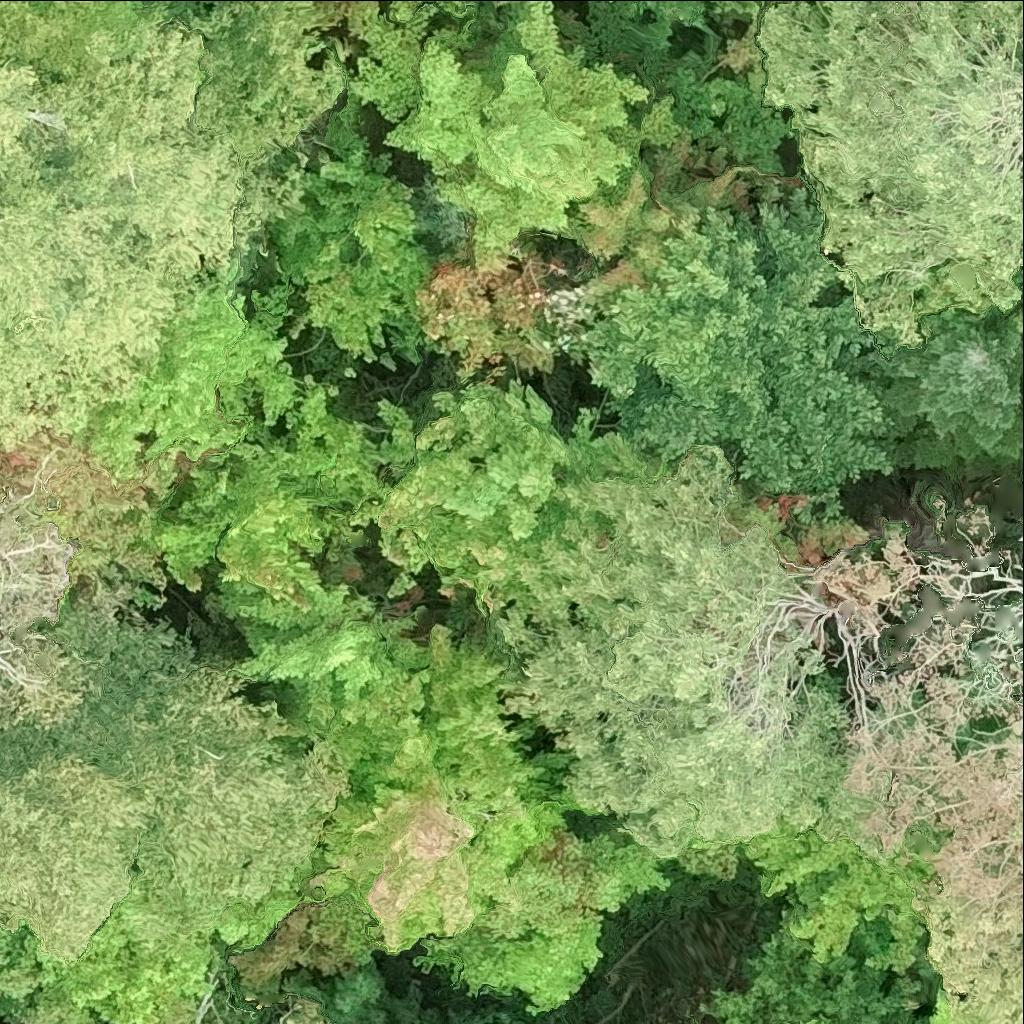crown: (217, 607, 669, 1015), (500, 440, 899, 875), (739, 505, 1023, 1023), (0, 598, 349, 942), (0, 27, 249, 444), (586, 180, 895, 495), (759, 0, 1023, 347), (350, 0, 678, 265), (351, 381, 652, 619), (270, 83, 432, 362), (0, 491, 166, 731), (0, 753, 159, 966), (741, 820, 937, 974), (34, 872, 217, 1023), (871, 306, 1023, 459), (701, 927, 922, 1023), (0, 0, 101, 72), (303, 0, 393, 65), (0, 920, 58, 999), (389, 0, 469, 21), (928, 985, 958, 1023), (37, 997, 73, 1023), (286, 1005, 322, 1023), (1021, 529, 1023, 539)
